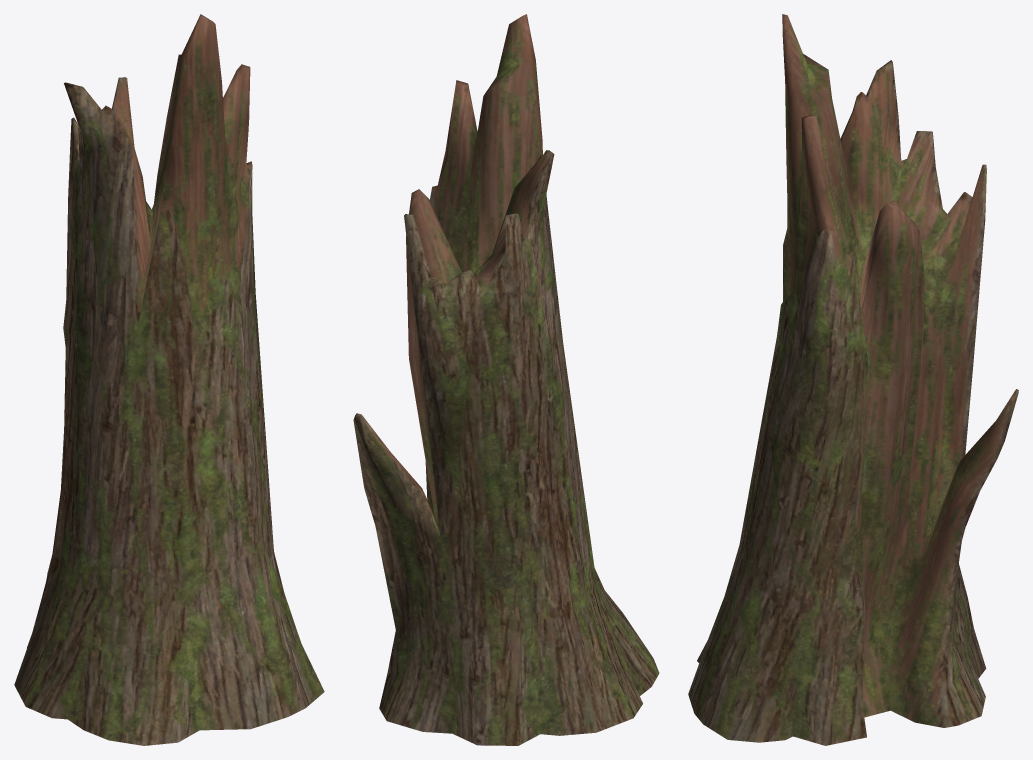
Rendered from TreeBroken5.fbx.
3 views of the same model, side by side, from view 1: azimuth 30°, elevation 25°; view 2: azimuth 150°, elevation 25°; view 3: azimuth 270°, elevation 25° (orthographic). The views are drawn at different scales.
Parts seen in each view (by area): view 1: SM_cmn_mount_BrokenTree_03a; view 2: SM_cmn_mount_BrokenTree_03a; view 3: SM_cmn_mount_BrokenTree_03a.
Boxes of the visible parts, left/top/right/bottom form: SM_cmn_mount_BrokenTree_03a: left=14, top=14, right=324, bottom=745; SM_cmn_mount_BrokenTree_03a: left=353, top=14, right=659, bottom=745; SM_cmn_mount_BrokenTree_03a: left=688, top=14, right=1018, bottom=745.
Bounding box in the file's own units: 151 × 389 × 172.
